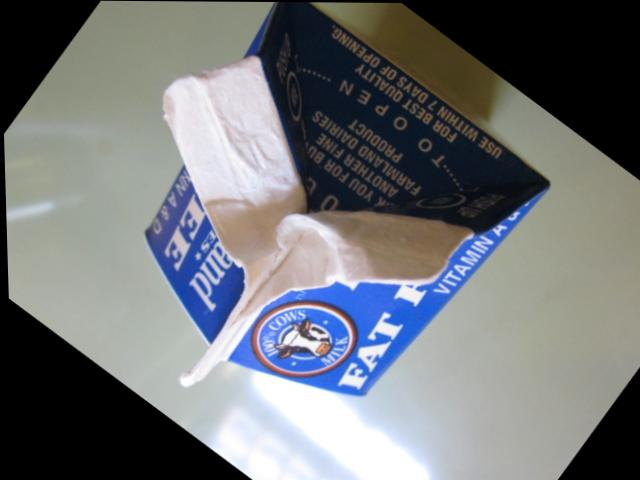cardboard: (5, 2, 546, 479)
